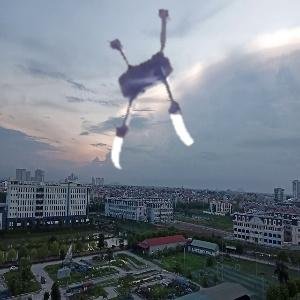drone: (70, 8, 239, 177)
